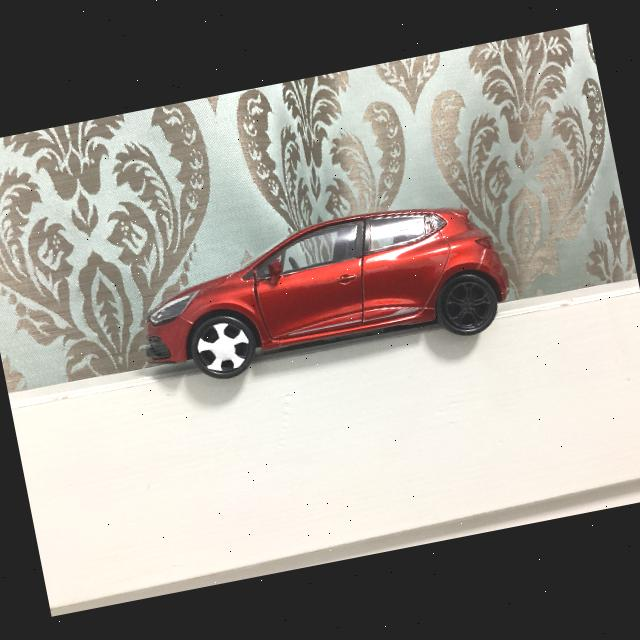Dogru_Jant: (441, 278, 497, 333)
Yanlis_Jant: (193, 318, 254, 378)
